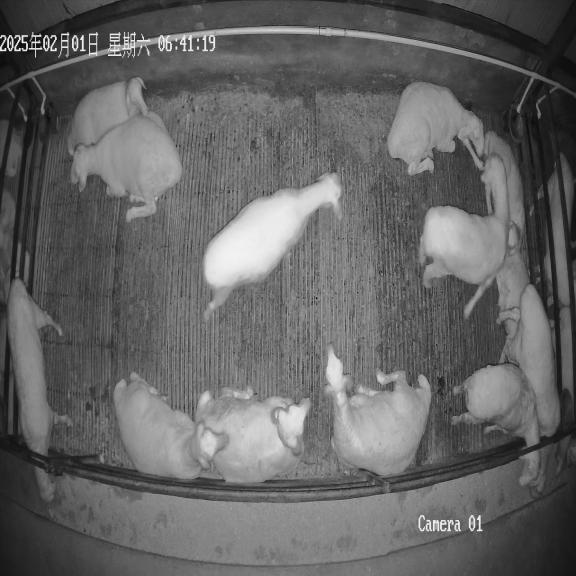eating: (7, 278, 71, 503), (500, 284, 560, 494), (452, 363, 540, 485)
lying: (325, 345, 431, 477), (113, 372, 228, 479), (70, 113, 182, 222), (196, 388, 310, 482), (387, 82, 484, 175), (67, 77, 163, 155), (484, 131, 525, 251), (496, 250, 530, 323)
stand: (203, 172, 342, 320), (419, 156, 513, 319)
